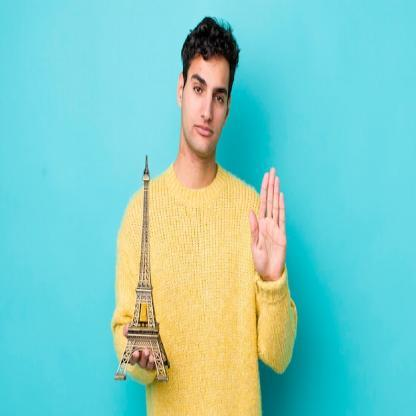stop: (247, 164, 290, 292)
